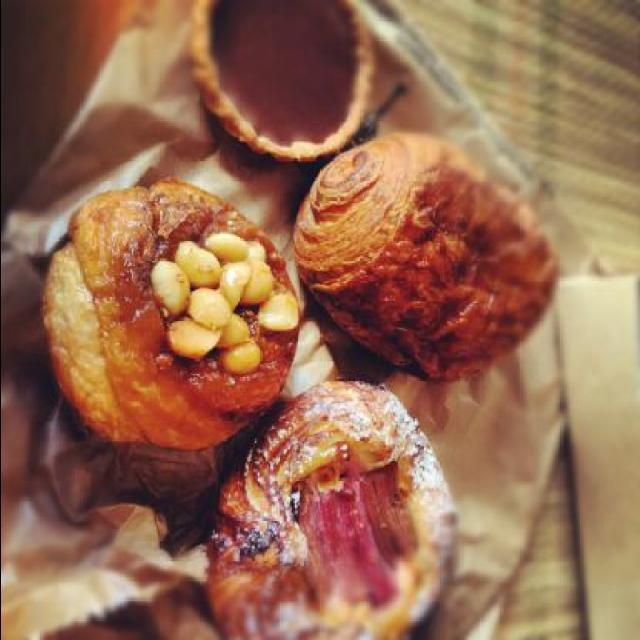Croissant: (294, 122, 546, 384)
